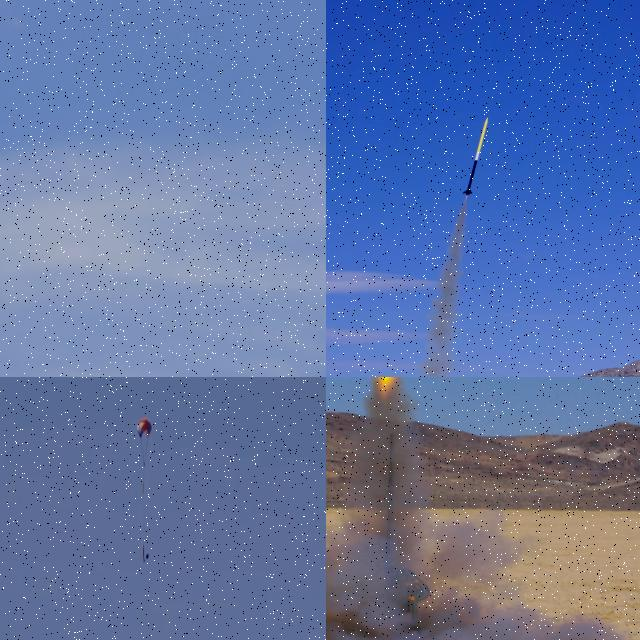Rocket: (462, 117, 489, 196)
